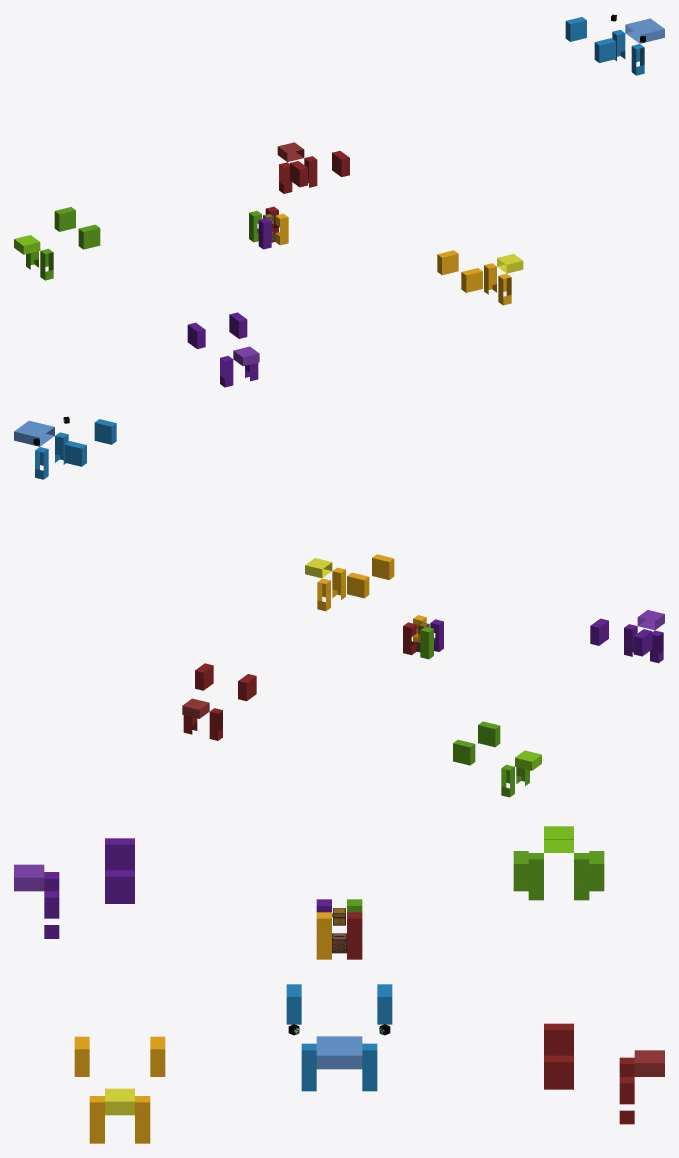
File: minecraft.obj
3 views of the same model, one above another, from view 1: azimuth 30°, elevation 25°; view 2: azimuth 150°, elevation 25°; view 3: azimuth 270°, elevation 25° (orthographic). The views are drawn at different scales.
Size of the model in its own units: 68 by 20 by 43.
